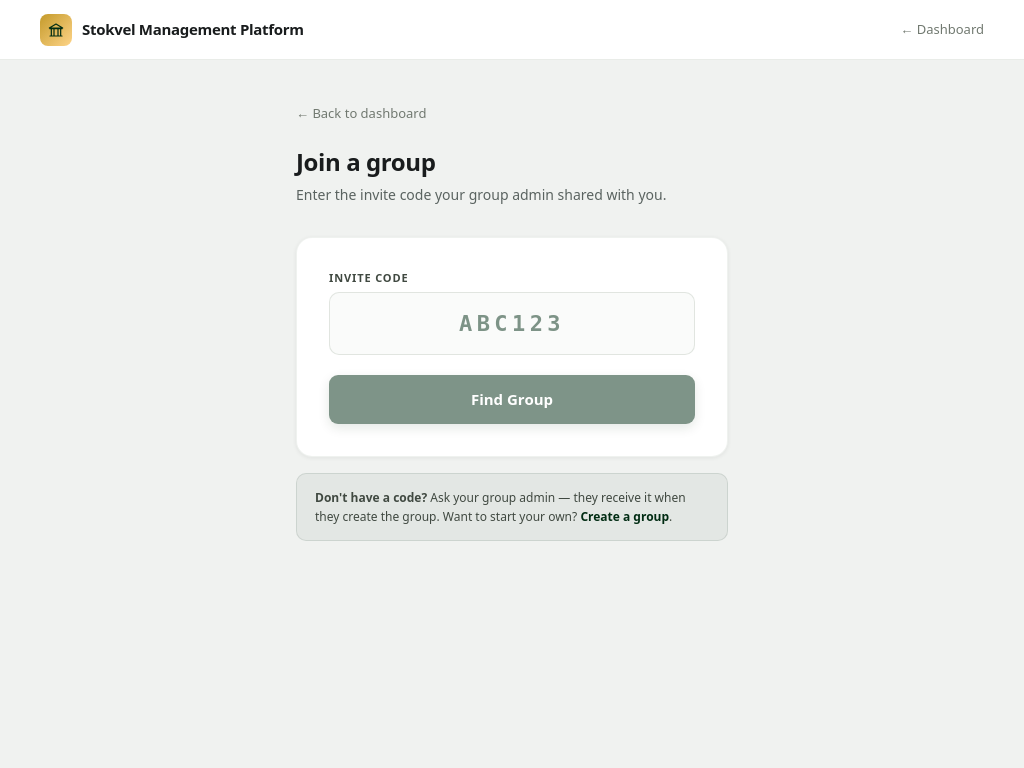
Scenario: JoinGroup › shows group preview after successful lookup
Type "SAVE01" into the field with placeholder "ABC123".
click(512, 324); type("SAVE01")  # box [329,292,695,355]
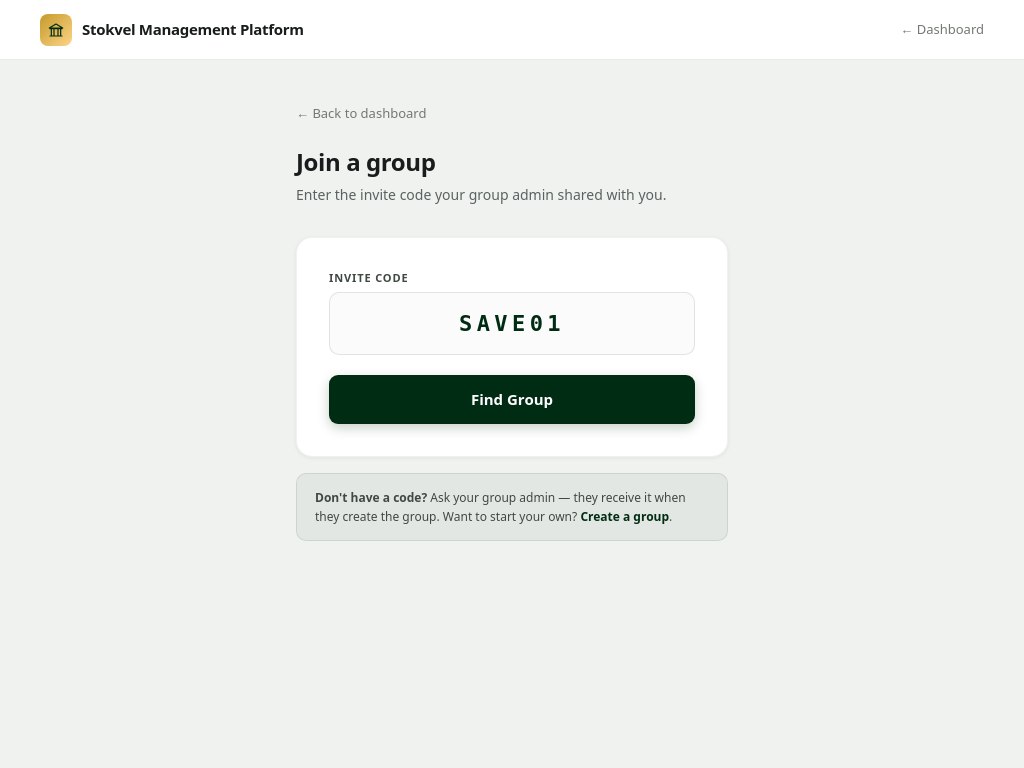
Click the button "Find Group".
click(512, 399)  # box [329,375,695,424]
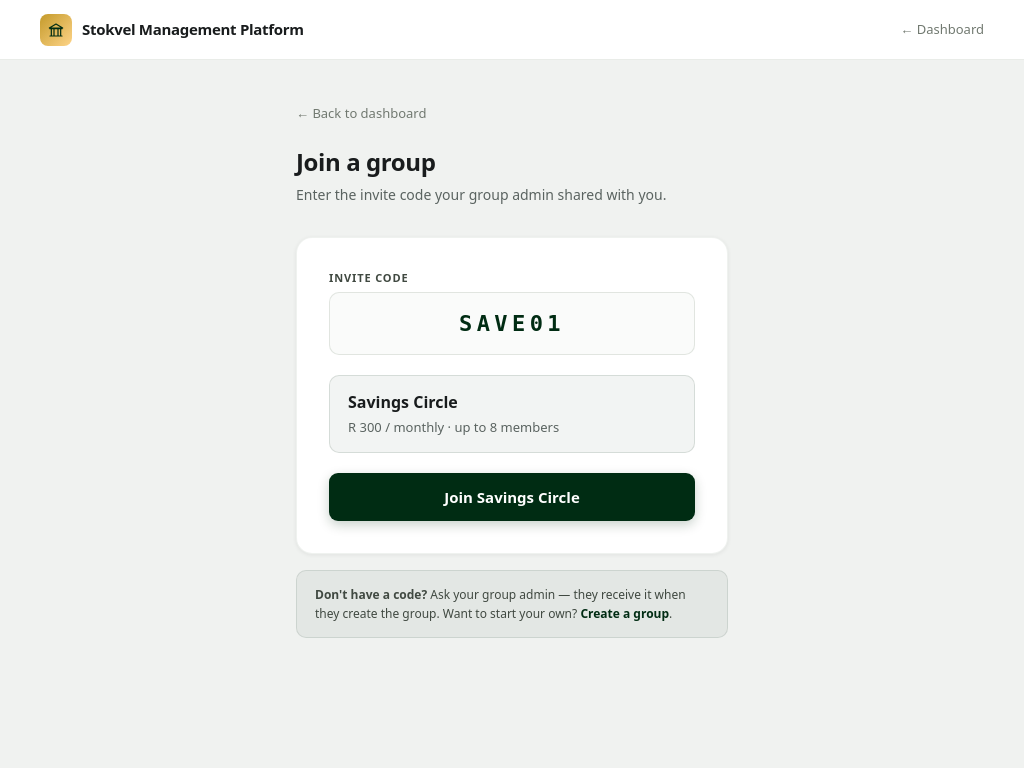
Expected: the text "Savings Circle" is shown, [348,391,458,413]
